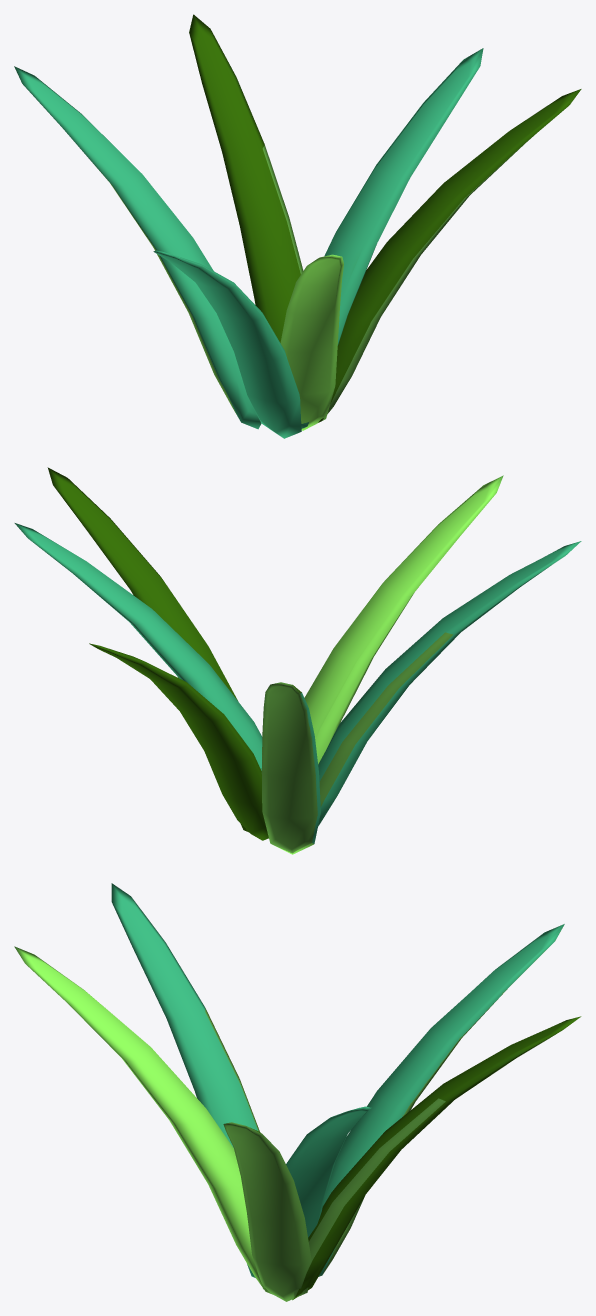
File: Grass.obj
3 views of the same model, one above another, from view 1: azimuth 30°, elevation 25°; view 2: azimuth 150°, elevation 25°; view 3: azimuth 270°, elevation 25° (orthographic). The views are drawn at different scales.
Visible parts, largest first — view 1: Box004, Box003, Box019, Box018, Box024, Box011; view 2: Box011, Box024, Box003, Box018, Box004, Box019; view 3: Box011, Box024, Box003, Box019, Box004, Box018.
Part boxes in pixels (x1,y1,x2,y2): Box004: [189, 14, 303, 342]; Box003: [14, 66, 261, 429]; Box019: [318, 89, 581, 422]; Box018: [301, 48, 483, 428]; Box024: [153, 250, 301, 438]; Box011: [280, 254, 343, 430]; Box011: [304, 475, 503, 764]; Box024: [318, 541, 581, 826]; Box003: [261, 682, 320, 854]; Box018: [14, 523, 262, 770]; Box004: [89, 643, 268, 840]; Box019: [47, 467, 248, 832]; Box011: [14, 946, 272, 1294]; Box024: [111, 883, 259, 1277]; Box003: [318, 924, 564, 1276]; Box019: [223, 1122, 311, 1301]; Box004: [292, 1016, 581, 1300]; Box018: [286, 1106, 371, 1237].
Size of the model in its own units: 5.58 by 3.27 by 5.6.
